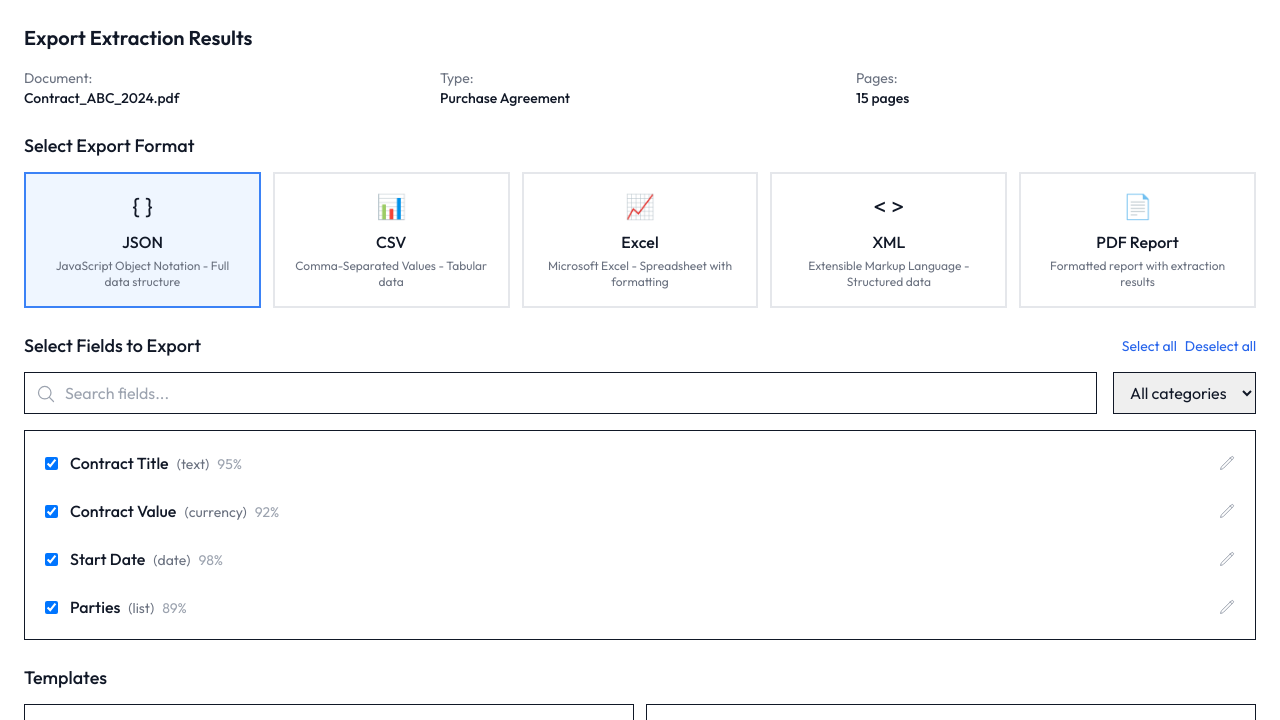
it: ExtractionExport › Format Selection › should display unsupported fields warning for CSV
The image size is (1280, 720).
Click the button with test id "format-csv" at (391, 240), box [273,172,510,308]
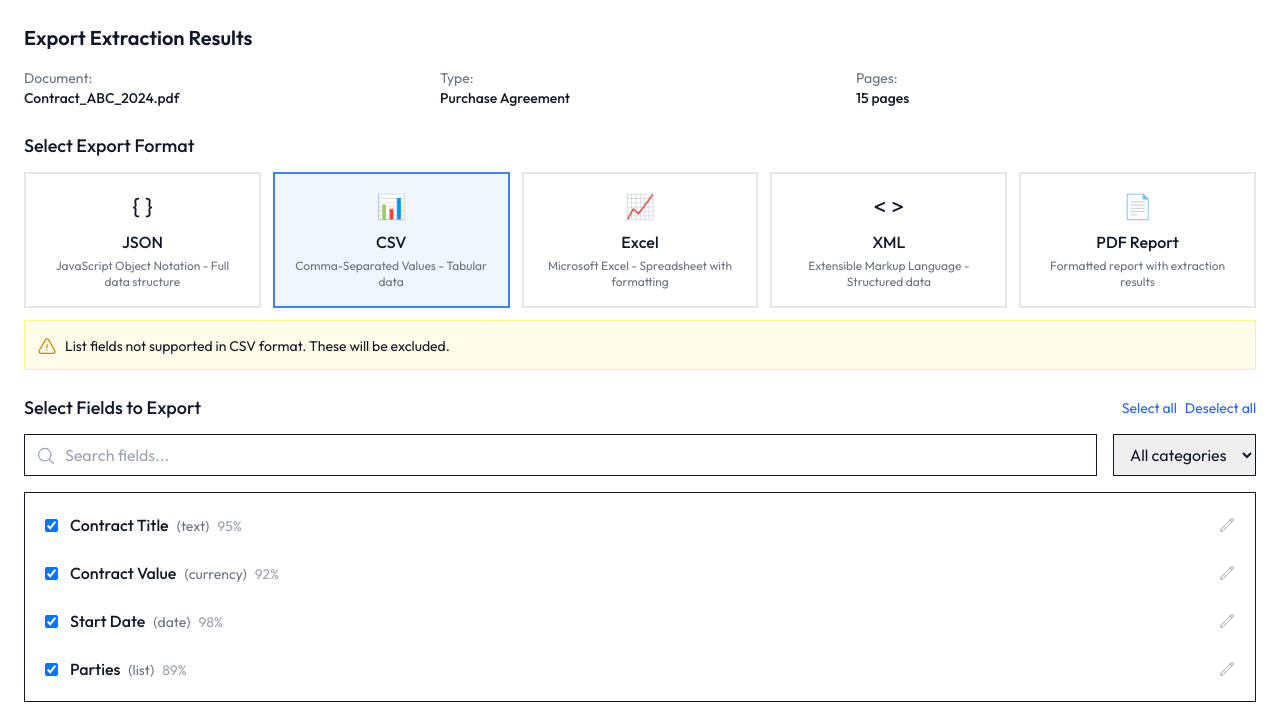
Expected: the text "List fields not supported in CSV" is shown, [65,337,450,355]
